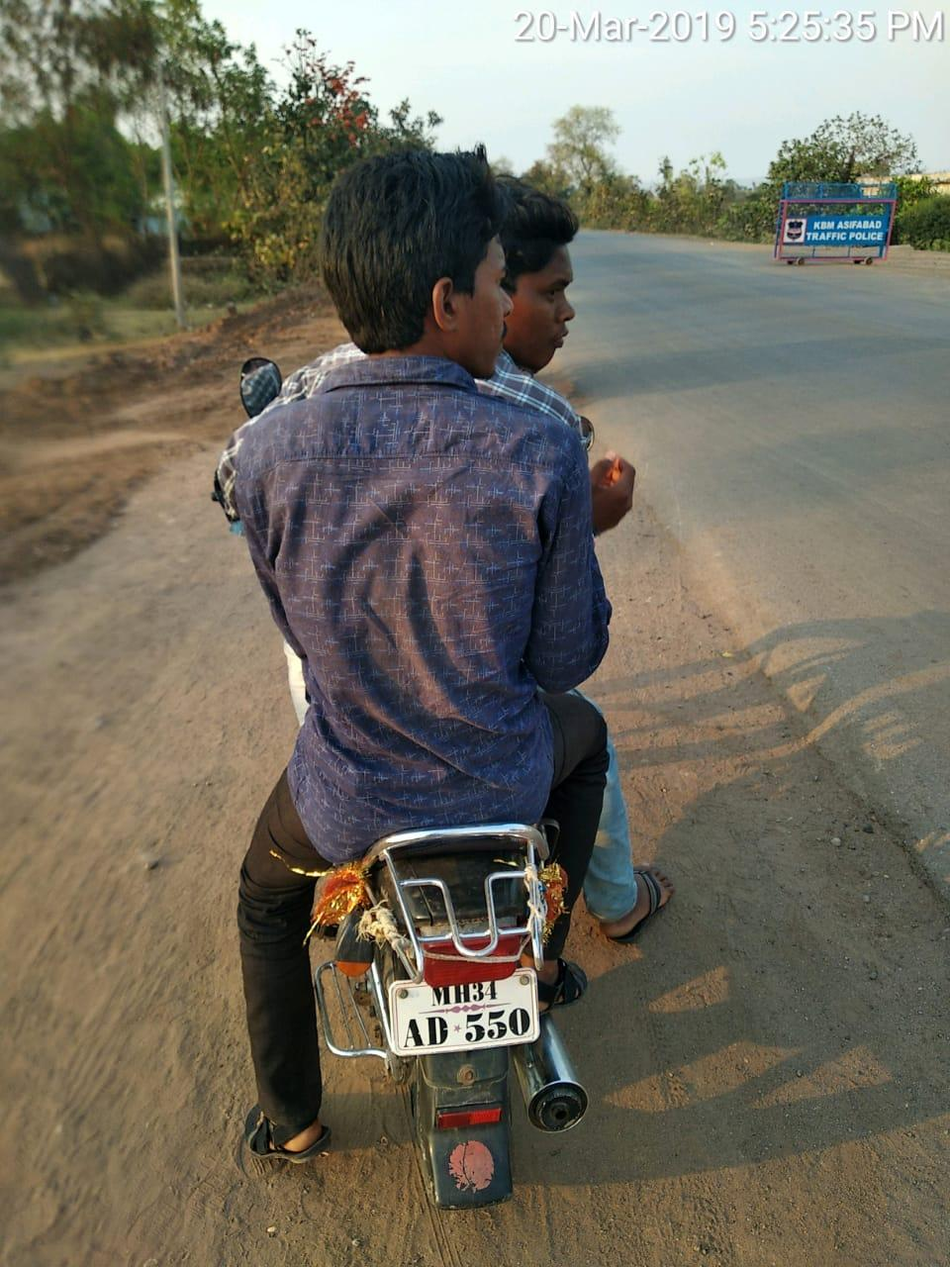plate: (365, 966, 566, 1073)
